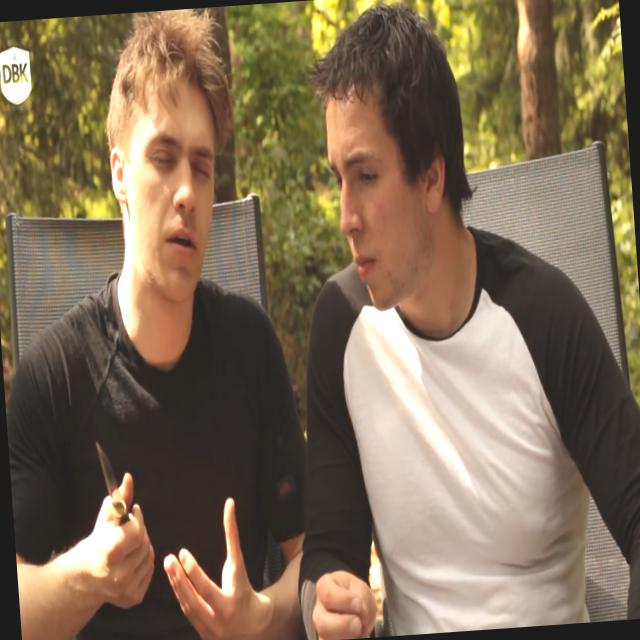knife: (84, 417, 156, 577)
